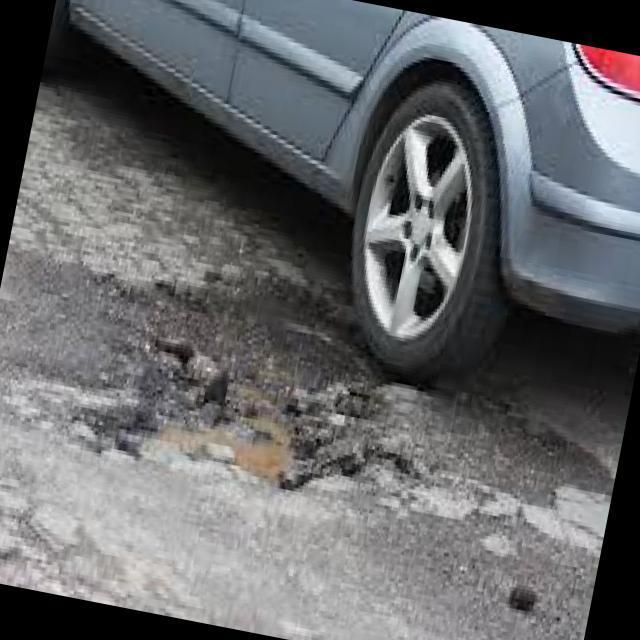Pothole: (151, 267, 391, 513)
